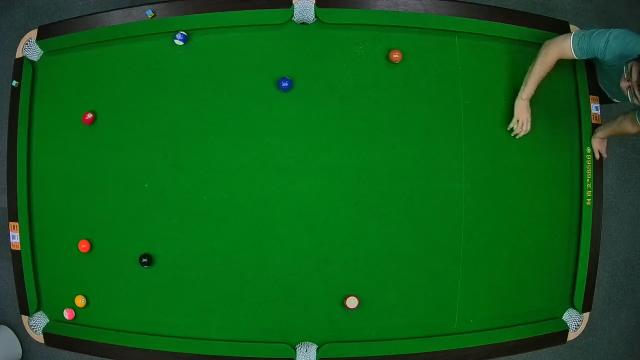bag1: (20, 36, 44, 62)
bag2: (292, 0, 316, 26)
bag4: (26, 310, 48, 334)
bag5: (296, 340, 318, 360)
bag6: (562, 306, 588, 334)
ball1: (74, 293, 88, 309)
ball10: (173, 30, 189, 48)
ball11: (344, 296, 360, 310)
ball12: (63, 308, 75, 320)
ball2: (278, 77, 292, 93)
ball3: (82, 112, 96, 126)
ball5: (78, 238, 90, 254)
ball7: (388, 49, 404, 64)
ball8: (138, 252, 154, 270)
